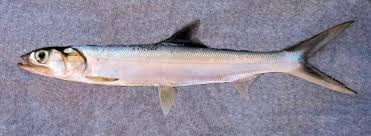Tenpounder: (19, 19, 360, 115)
